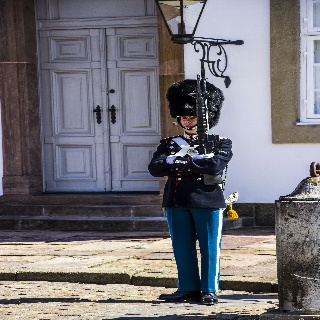rifle: (195, 58, 226, 187)
